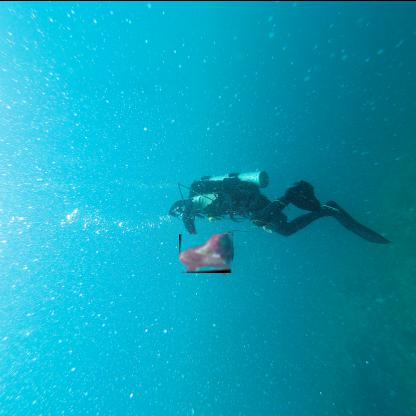waste: (180, 232, 234, 272)
